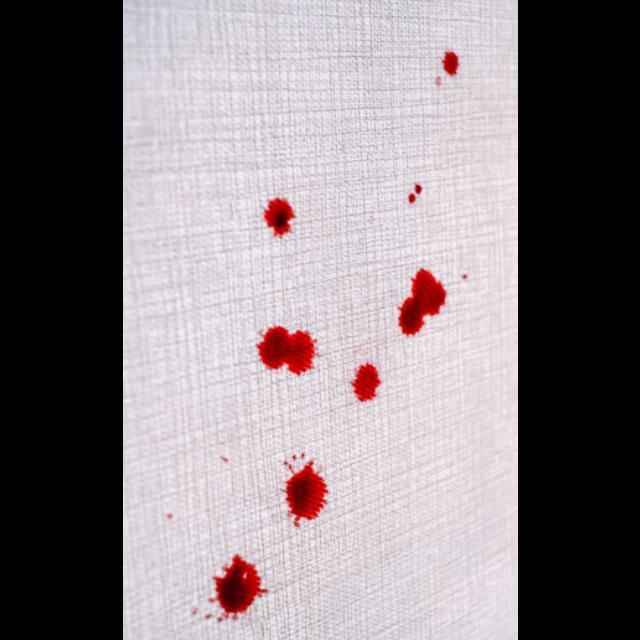blood: (208, 552, 267, 623), (253, 324, 320, 377), (396, 267, 446, 336), (280, 458, 328, 528), (262, 196, 296, 238), (349, 362, 380, 403), (441, 51, 459, 77), (407, 191, 415, 203), (413, 184, 421, 195)
